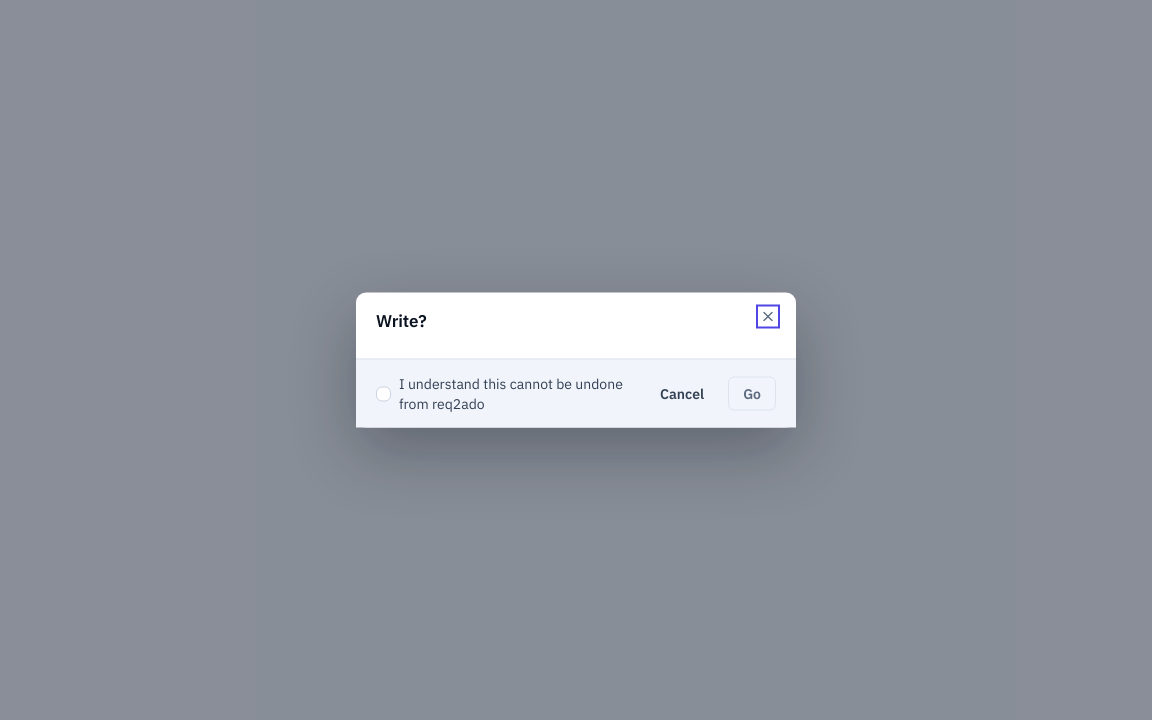
Test: ConfirmDialog variants › irreversible disables Confirm until the acknowledgement checkbox is ticked, then breathes
The image size is (1152, 720).
Expected: the button "Go" is disabled, [728,376,776,410]
Click the checkbox: {"x": 384, "y": 394} [376,386,391,401]
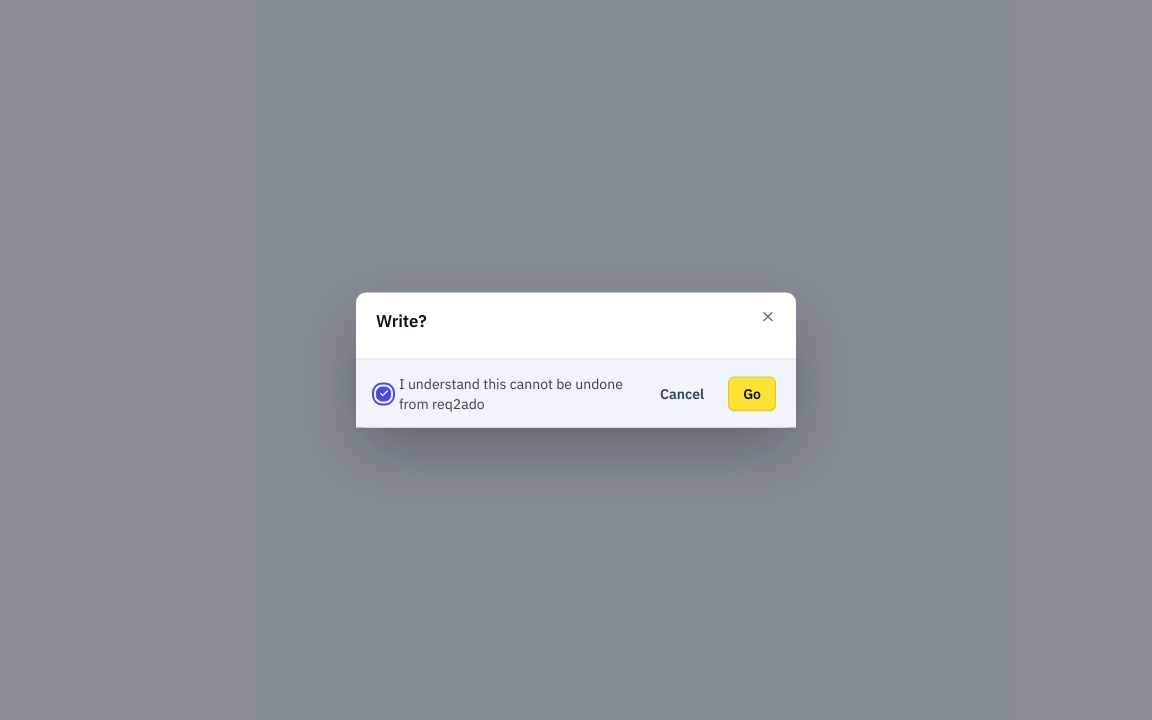
Result: the button "Go" is enabled at [728,376,776,410]
